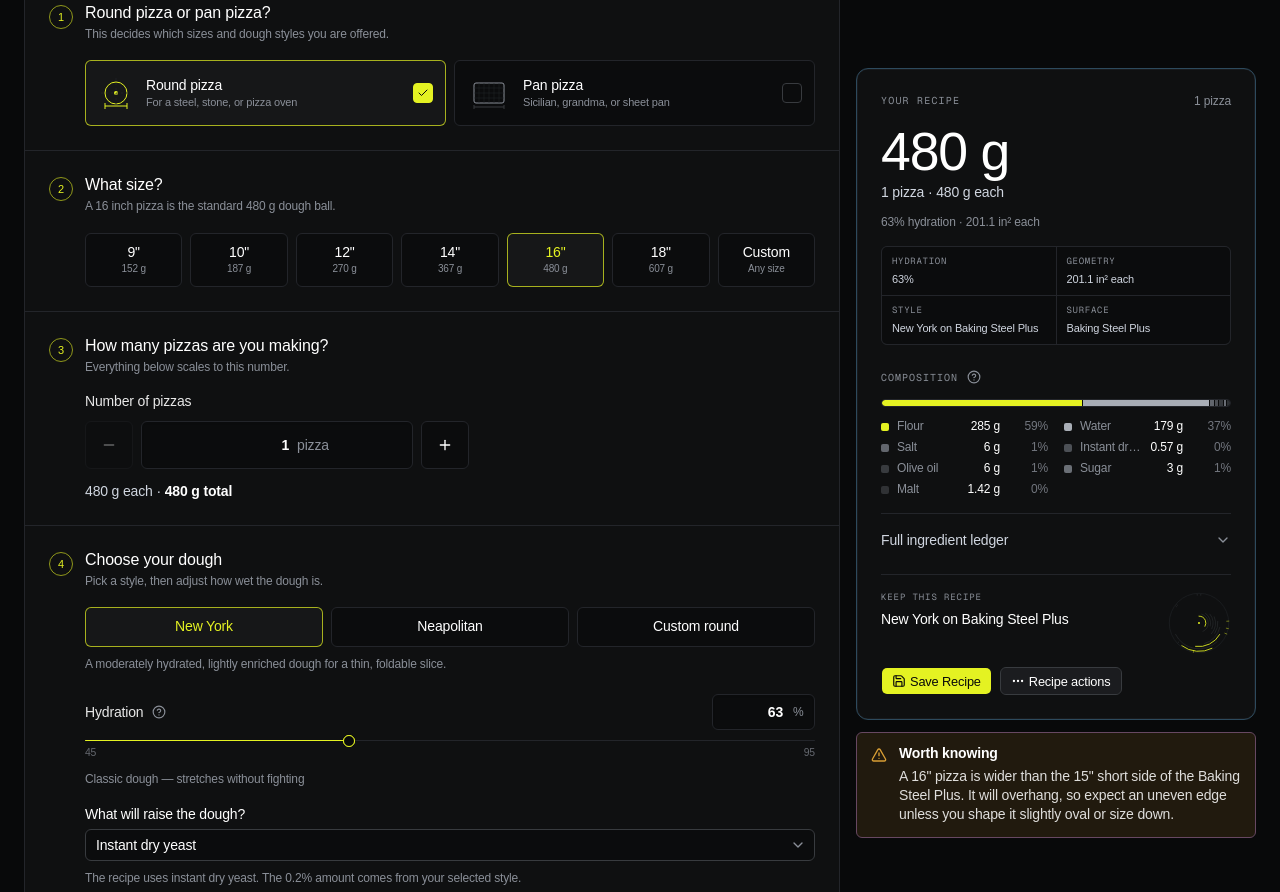
Test: recipe details and warnings › keeps the full ledger reachable
The image size is (1280, 892).
(page scrolled)
Click the button "Full ingredient ledger" at {"x": 945, "y": 541}, box [881,527,1231,555]
(page scrolled)
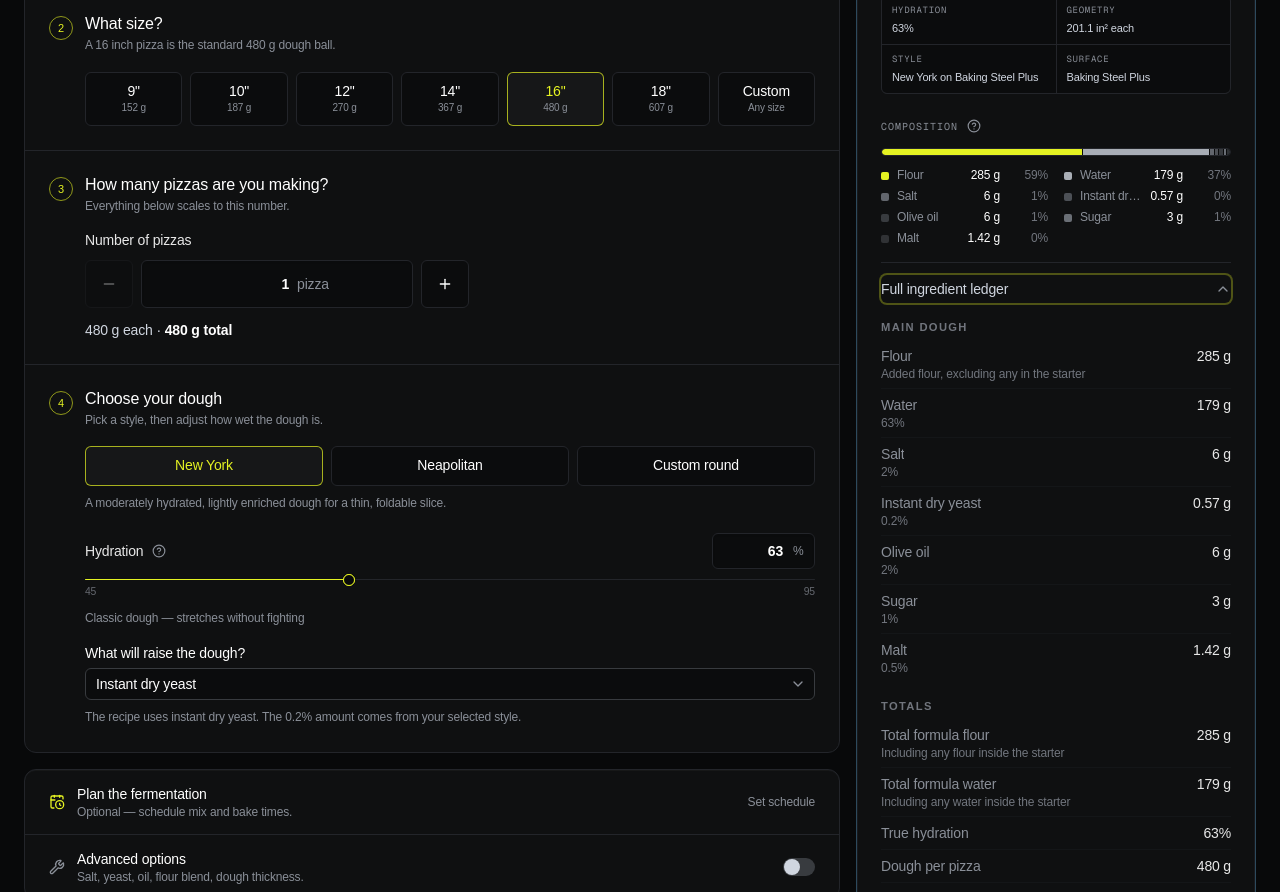
Result: the button "Full ingredient ledger" is expanded at [881,275,1231,303]
Result: the element "Your recipe" shows "total formula flour" at [881,727,989,743]
